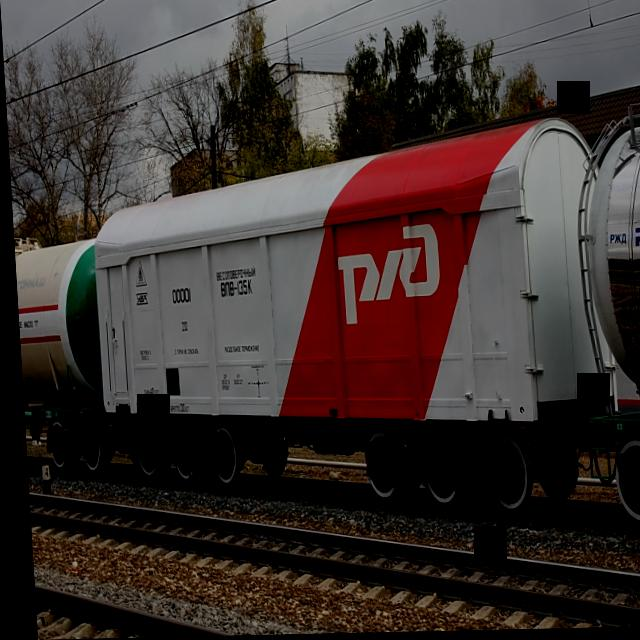boxcar: (78, 106, 598, 538)
tank: (572, 76, 640, 540), (10, 211, 100, 480)
